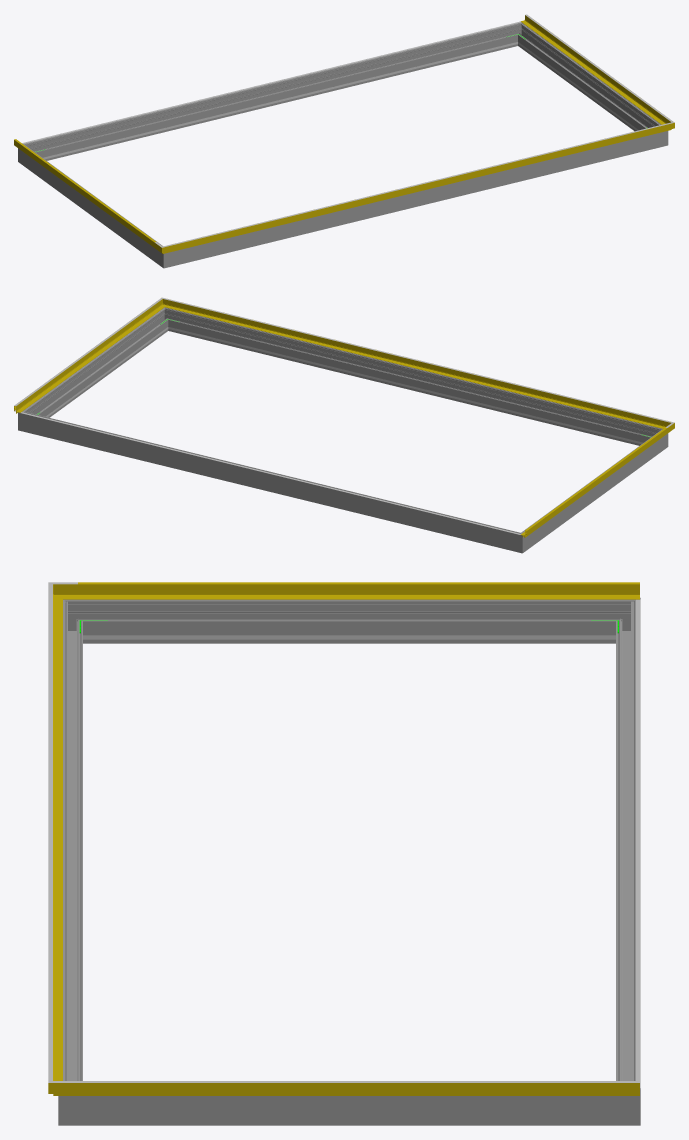
3 views of the same model, one above another, from view 1: azimuth 30°, elevation 25°; view 2: azimuth 150°, elevation 25°; view 3: azimuth 270°, elevation 25° (orthographic). The views are drawn at different scales.
Parts seen in each view (by area): view 1: 3DGeom-277, 3DGeom-299, 3DGeom-56, 3DGeom-298, 3DGeom-269, 3DGeom-58, 3DGeom-245, 3DGeom-221, 3DGeom-66, 3DGeom-50; view 2: 3DGeom-299, 3DGeom-277, 3DGeom-56, 3DGeom-298, 3DGeom-269, 3DGeom-58, 3DGeom-240, 3DGeom-50, 3DGeom-221, 3DGeom-66, 3DGeom-279; view 3: 3DGeom-269, 3DGeom-298, 3DGeom-299, 3DGeom-277, 3DGeom-50, 3DGeom-58, 3DGeom-56, 3DGeom-221, 3DGeom-66, 3DGeom-233, 3DGeom-71, 3DGeom-64 (+4 smaller).
Boxes of the visible parts, x1,y1,x2,y2 form: 3DGeom-277: [32, 25, 515, 160]; 3DGeom-299: [176, 134, 655, 265]; 3DGeom-56: [174, 126, 662, 251]; 3DGeom-298: [519, 27, 658, 131]; 3DGeom-269: [25, 148, 160, 262]; 3DGeom-58: [521, 15, 665, 124]; 3DGeom-245: [47, 45, 505, 158]; 3DGeom-221: [22, 21, 521, 143]; 3DGeom-66: [174, 125, 661, 244]; 3DGeom-50: [14, 140, 154, 247]; 3DGeom-299: [170, 310, 654, 445]; 3DGeom-277: [31, 414, 511, 550]; 3DGeom-56: [171, 301, 660, 427]; 3DGeom-298: [27, 312, 166, 417]; 3DGeom-269: [526, 433, 660, 547]; 3DGeom-58: [14, 303, 160, 413]; 3DGeom-240: [180, 330, 638, 443]; 3DGeom-50: [521, 428, 667, 537]; 3DGeom-221: [21, 412, 520, 534]; 3DGeom-66: [174, 300, 661, 420]; 3DGeom-279: [509, 529, 529, 553]; 3DGeom-269: [87, 599, 610, 643]; 3DGeom-298: [87, 1096, 610, 1125]; 3DGeom-299: [63, 610, 82, 1080]; 3DGeom-277: [616, 610, 635, 1080]; 3DGeom-50: [78, 584, 639, 599]; 3DGeom-58: [78, 1083, 639, 1095]; 3DGeom-56: [53, 595, 62, 1080]; 3DGeom-221: [636, 599, 640, 1088]; 3DGeom-66: [48, 594, 52, 1070]; 3DGeom-233: [111, 635, 587, 639]; 3DGeom-71: [78, 582, 639, 584]; 3DGeom-64: [78, 1081, 639, 1082].
Bounding box in the file's own units: 6.1 × 0.2669 × 3.05.
